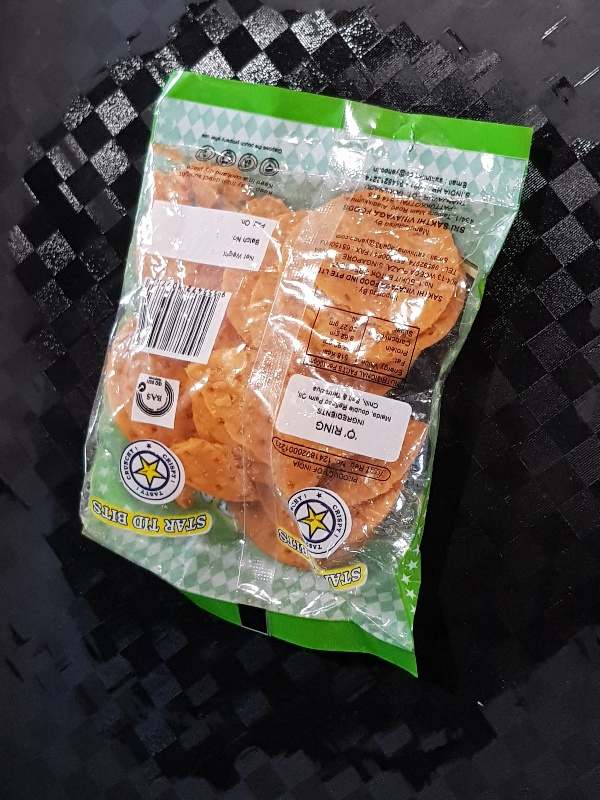Star Tidbits 'O' Ring: (77, 69, 534, 680)
